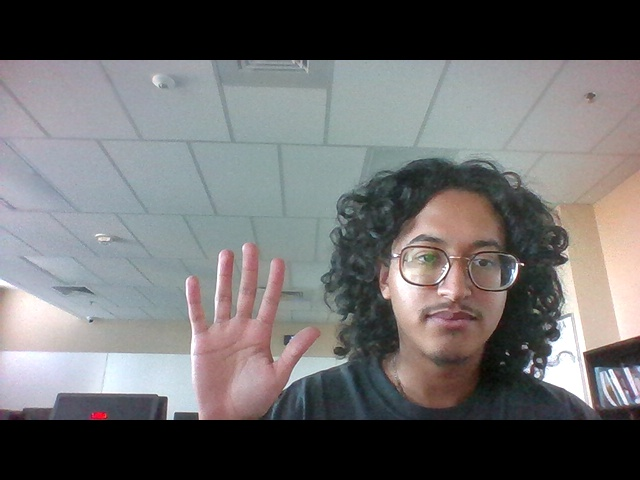hello: (166, 236, 324, 422)
